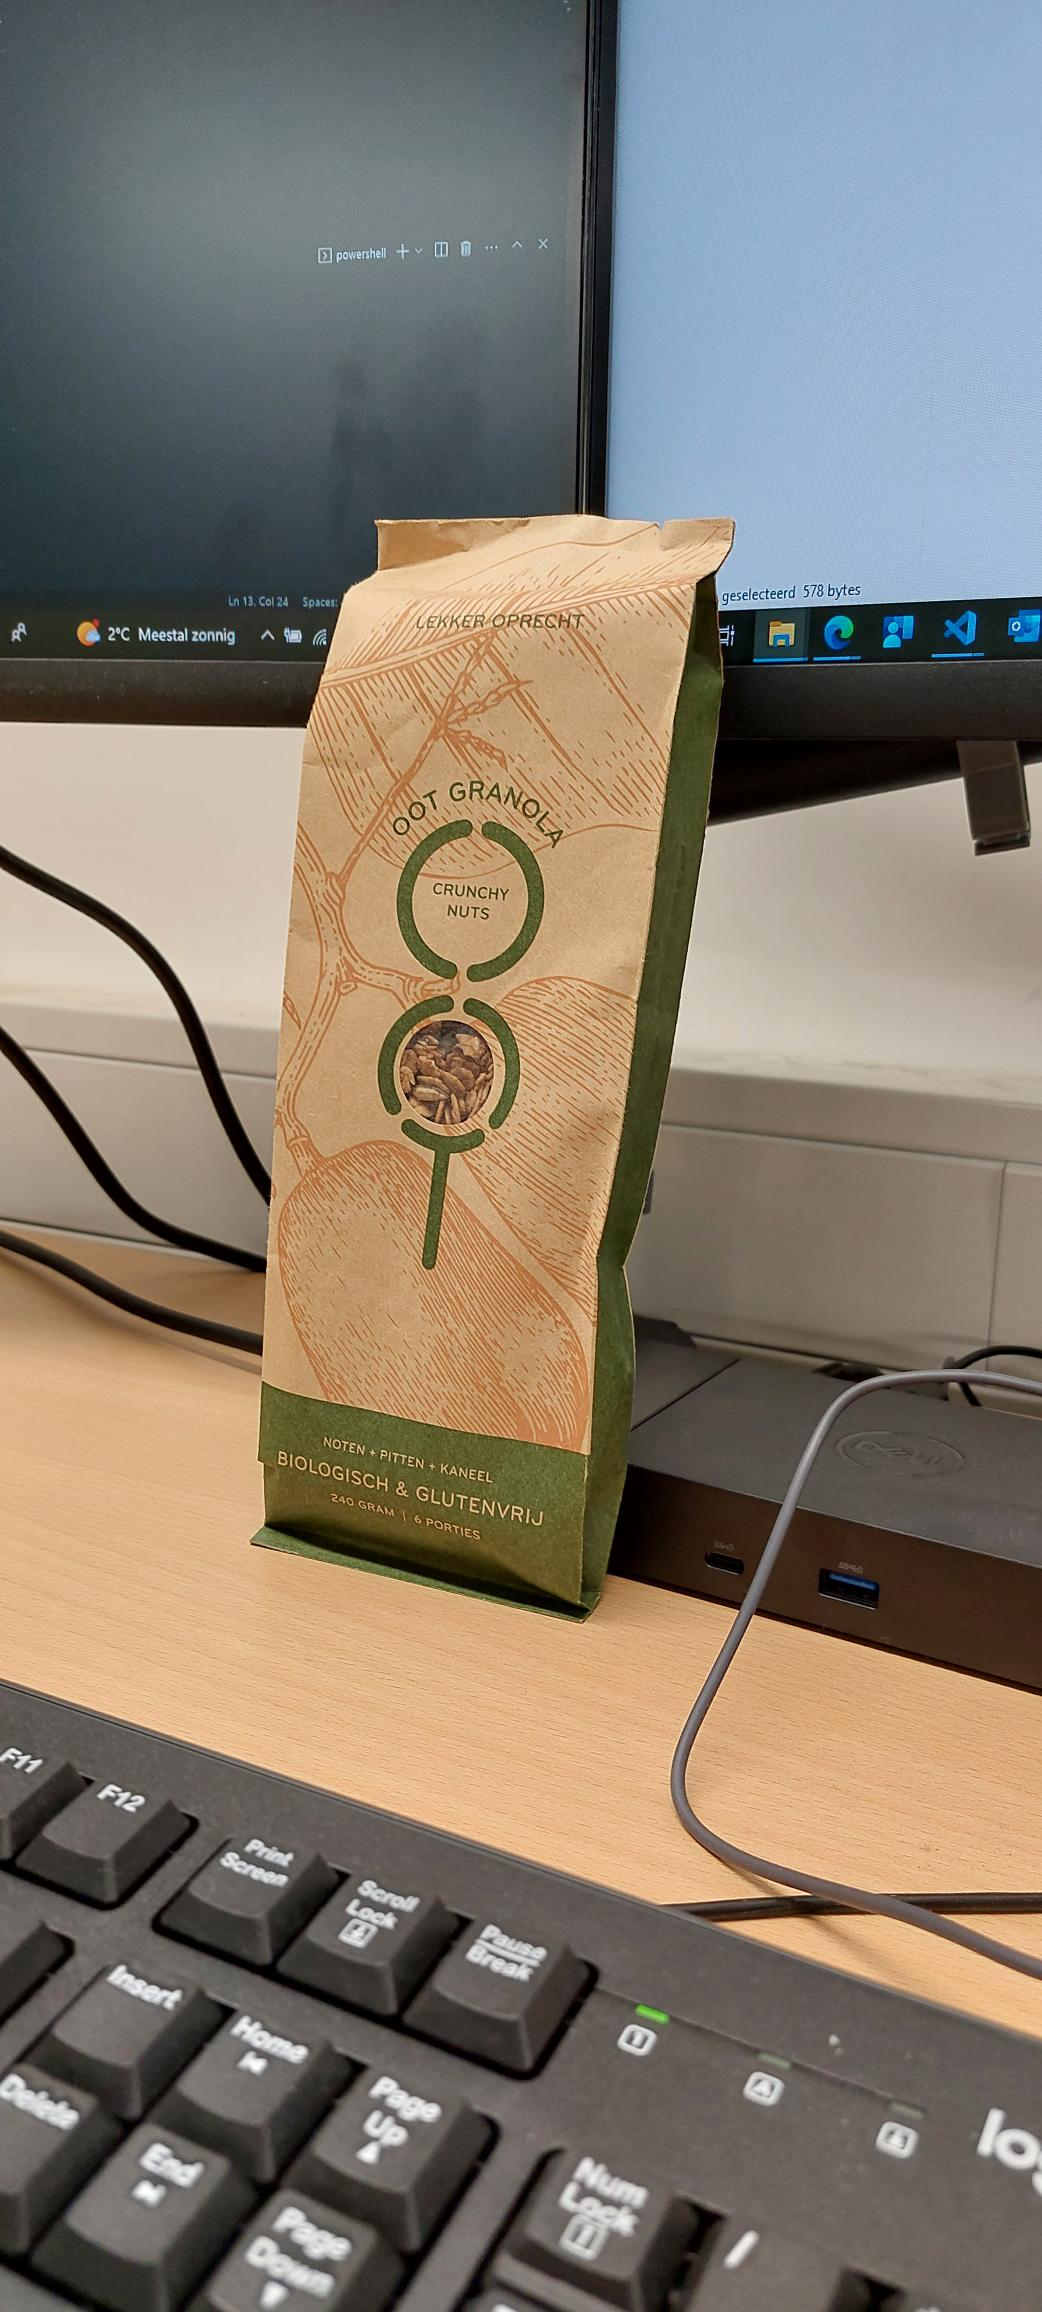CrunchyNuts: (262, 568, 662, 1560)
